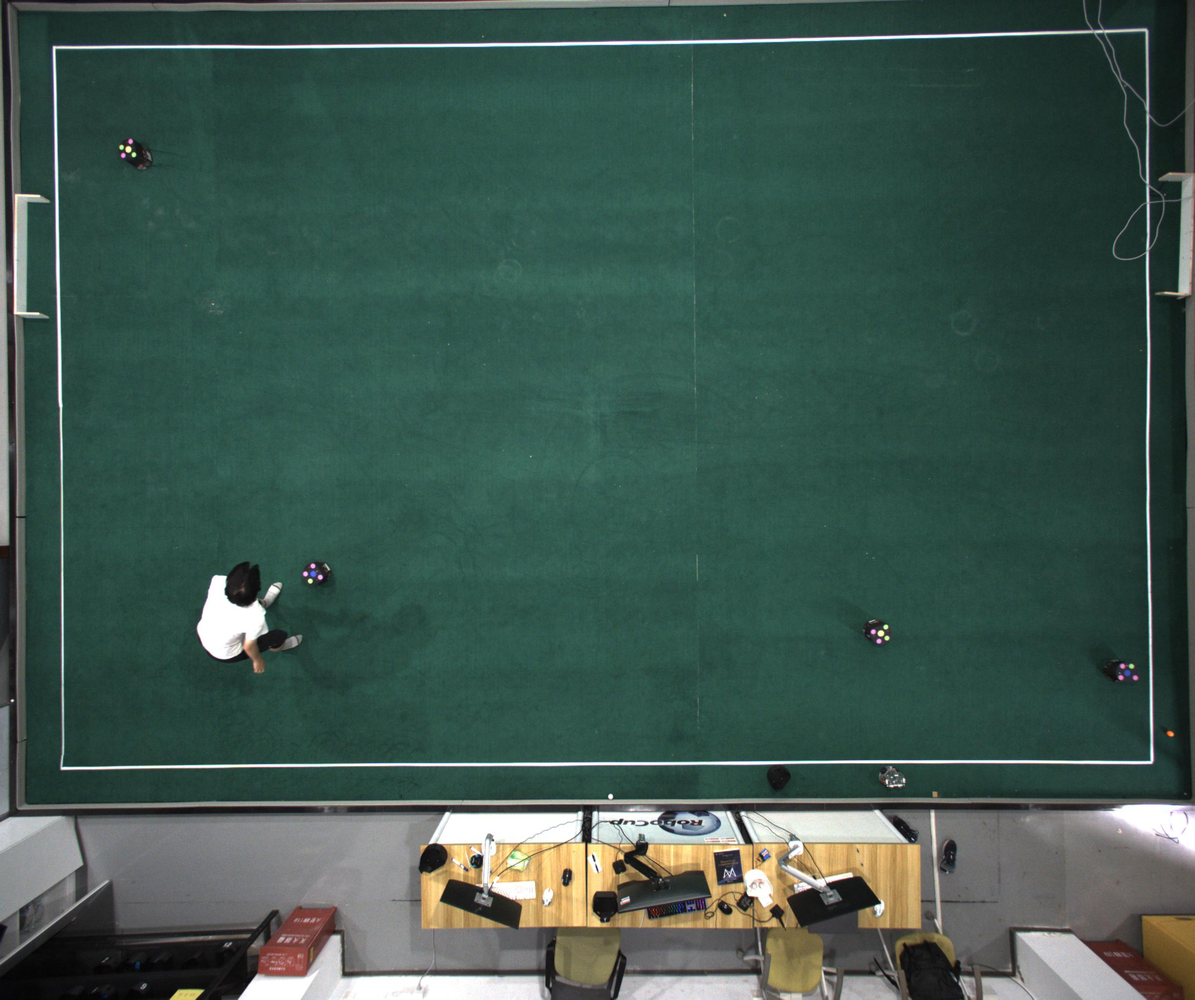ball: (1166, 730, 1175, 738)
blue_bot: (1116, 662, 1140, 682), (303, 563, 324, 585)
yellow_bot: (870, 624, 891, 645), (119, 138, 138, 160)
